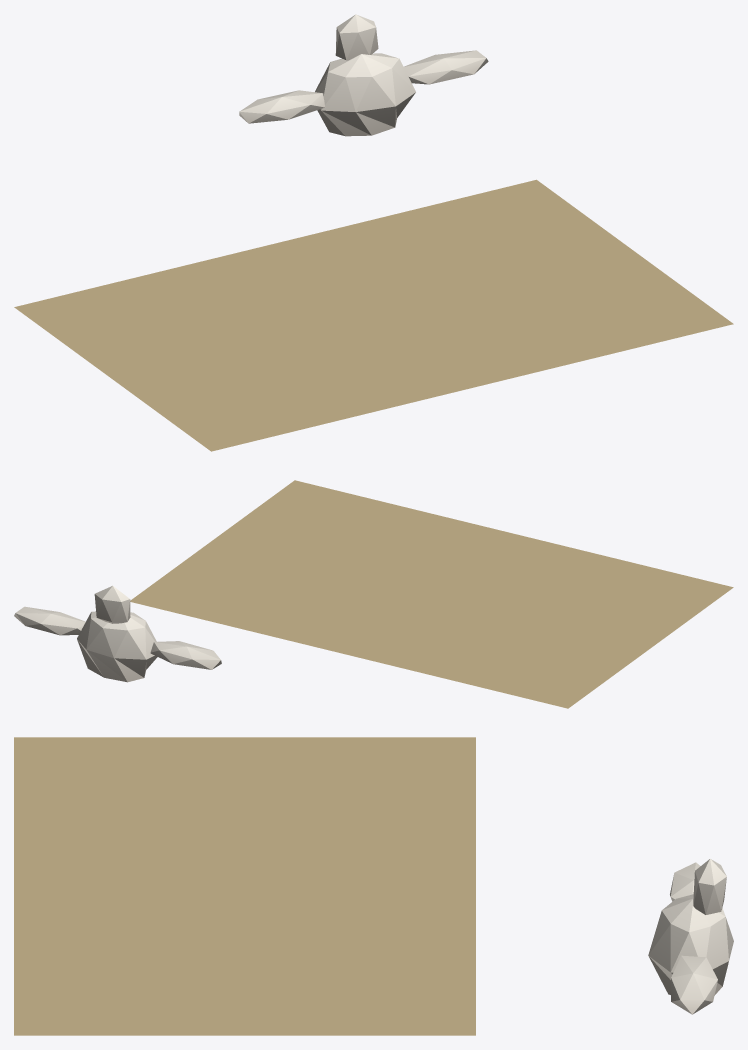
Rendered from vertebra_baleia.glb.
3 renders of one model, top to bottom at view 1: azimuth 30°, elevation 25°; view 2: azimuth 150°, elevation 25°; view 3: azimuth 270°, elevation 25°, orthographic. The views are drawn at different scales.
Visible parts, largest first — view 1: Malha_0; view 2: Malha_0; view 3: Malha_0.
Part boxes in pixels (left/top/right/bottom): Malha_0: left=14, top=14, right=733, bottom=451; Malha_0: left=14, top=480, right=733, bottom=708; Malha_0: left=14, top=737, right=733, bottom=1035.
Size of the model in its own units: 2.82 by 0.5318 by 2.65.
